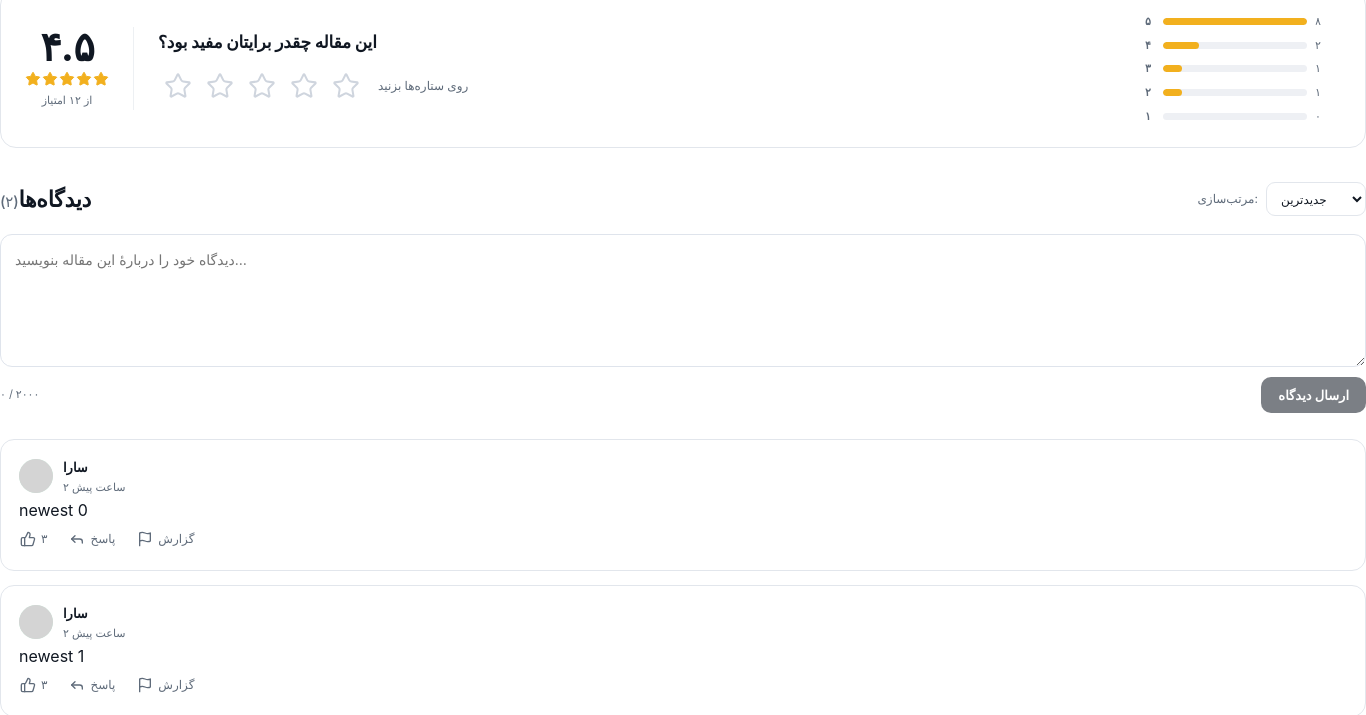
Test: ArticleEngagement — signed-in reader › re-sorts and loads further pages
Select "محبوب‌ترین" in the dropdown with test id "blog-comments-sort" at (1316, 199), box [1266, 182, 1365, 216]
(page scrolled)
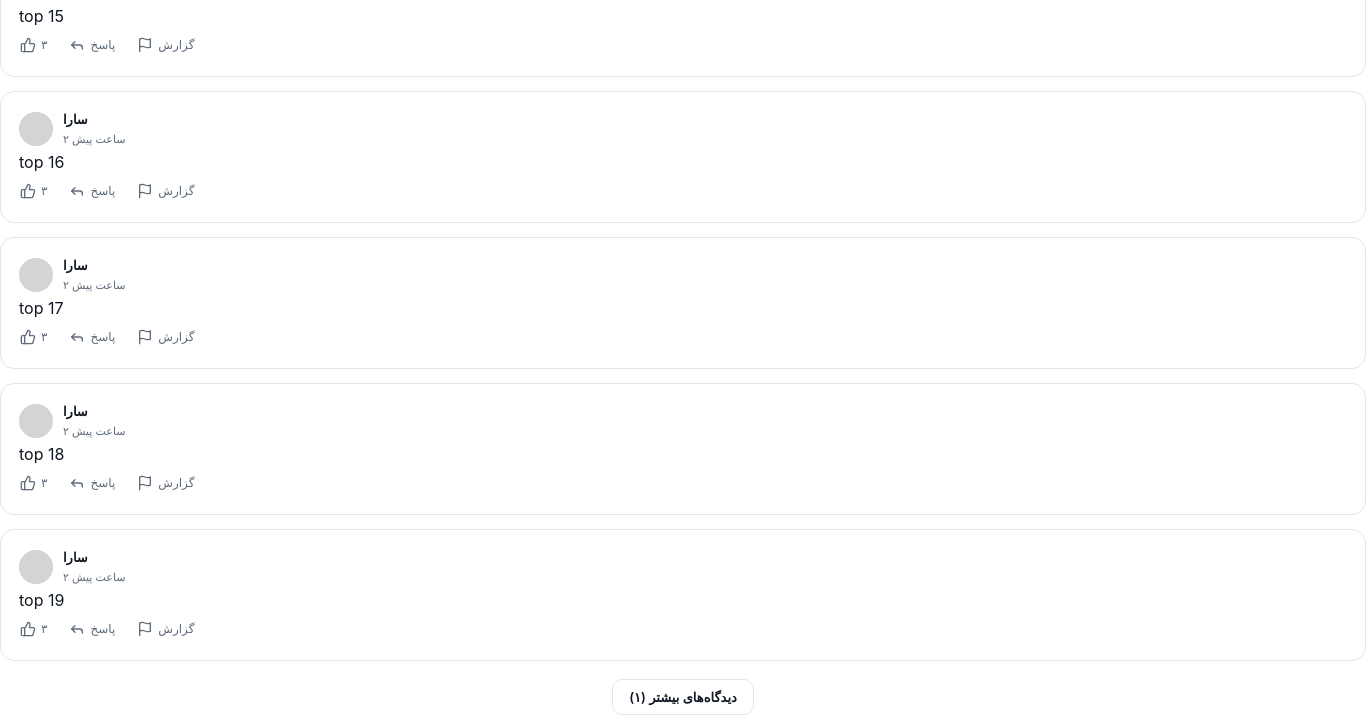
Click the button with test id "blog-comments-more" at (683, 697), box [612, 679, 754, 714]
(page scrolled)
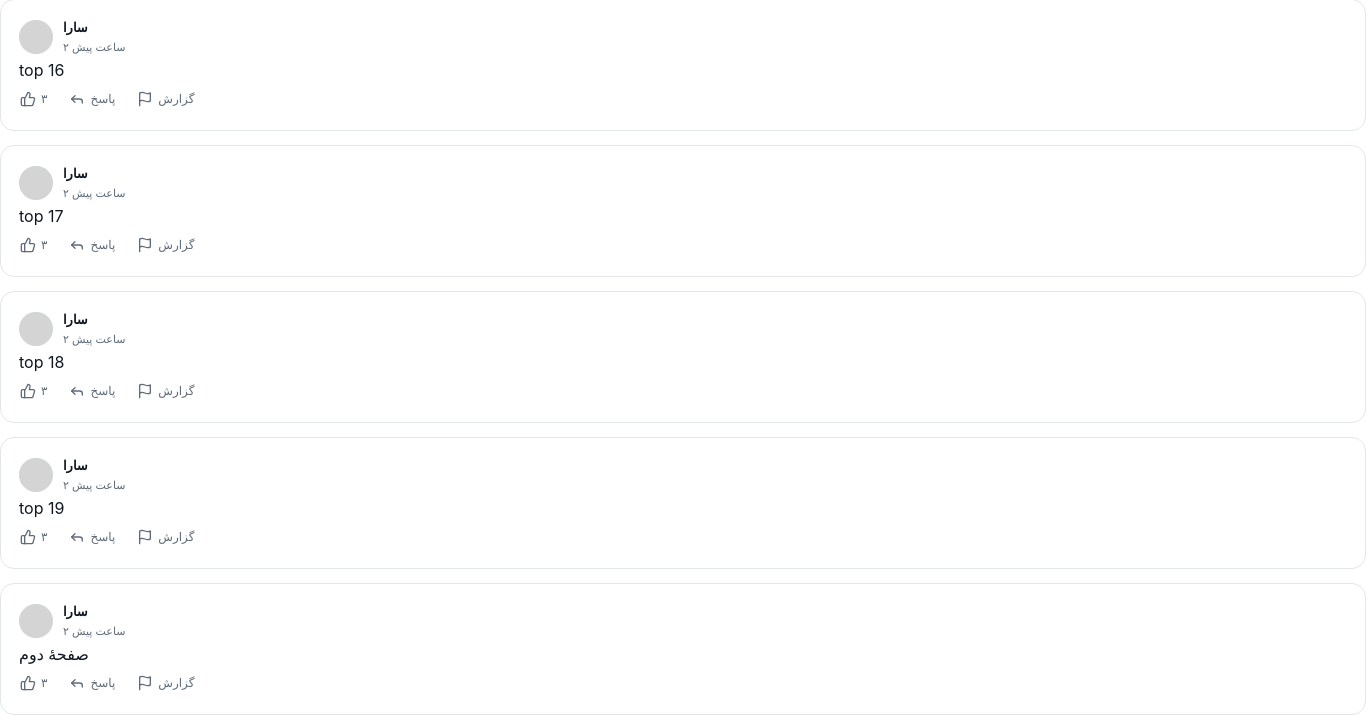
Check: the text "صفحهٔ دوم" is shown, box [19, 644, 89, 664]
Check: the button with test id "blog-comments-more" is gone
